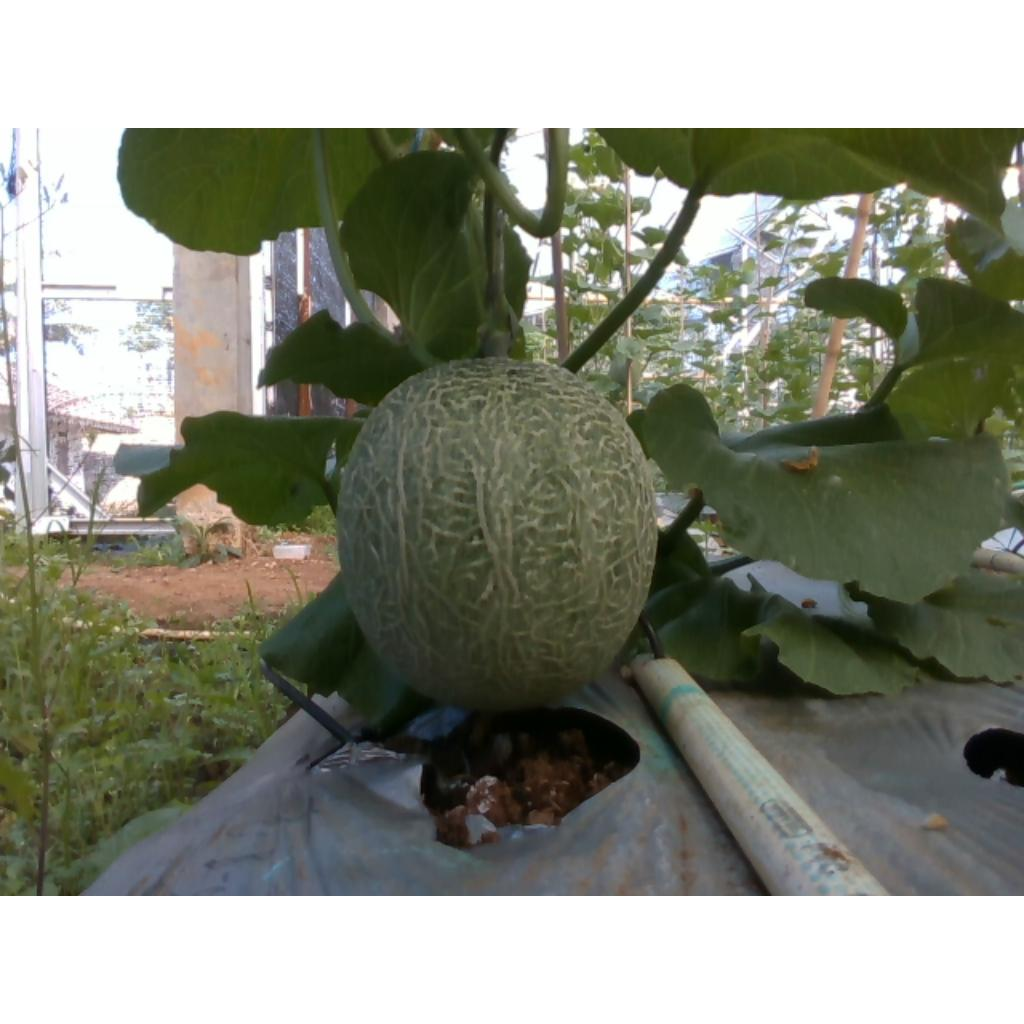melon: (339, 358, 654, 710)
